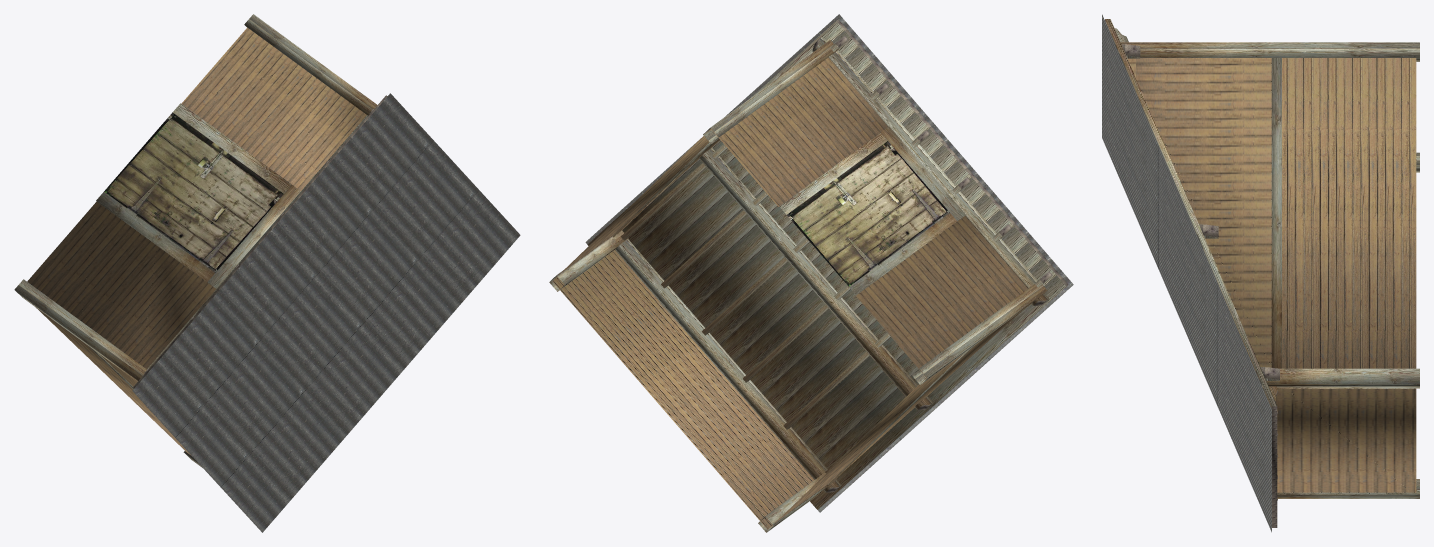
File: suurtyki_6_2.obj
3 renders of one model, left to right at view 1: azimuth 30°, elevation 25°; view 2: azimuth 150°, elevation 25°; view 3: azimuth 270°, elevation 25°, orthographic. The views are drawn at different scales.
Parts seen in each view (by area): view 1: 6_2_puhas.obj; view 2: 6_2_puhas.obj; view 3: 6_2_puhas.obj.
Boxes of the visible parts, left/top/right/bottom form: 6_2_puhas.obj: left=14, top=14, right=520, bottom=532; 6_2_puhas.obj: left=549, top=14, right=1073, bottom=532; 6_2_puhas.obj: left=1102, top=14, right=1419, bottom=532.
Bounding box in the file's own units: 8.67 × 8.61 × 4.52.
Materials: 10 (9 with a texture image).
